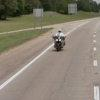Motorcycle: (47, 23, 76, 51)
